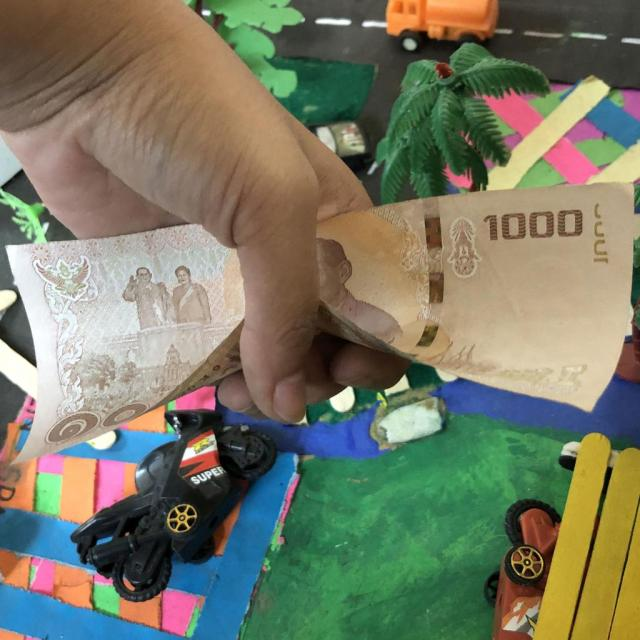THAI1000: (314, 182, 639, 412), (4, 224, 246, 464)
